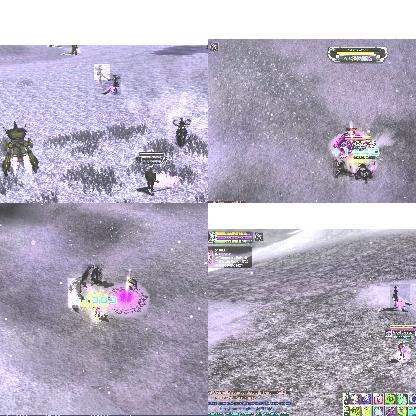caliana: (172, 116, 192, 146), (390, 284, 410, 312), (349, 163, 375, 181), (82, 264, 102, 284), (103, 74, 121, 94), (68, 278, 80, 308), (333, 157, 347, 177), (94, 64, 110, 80)
